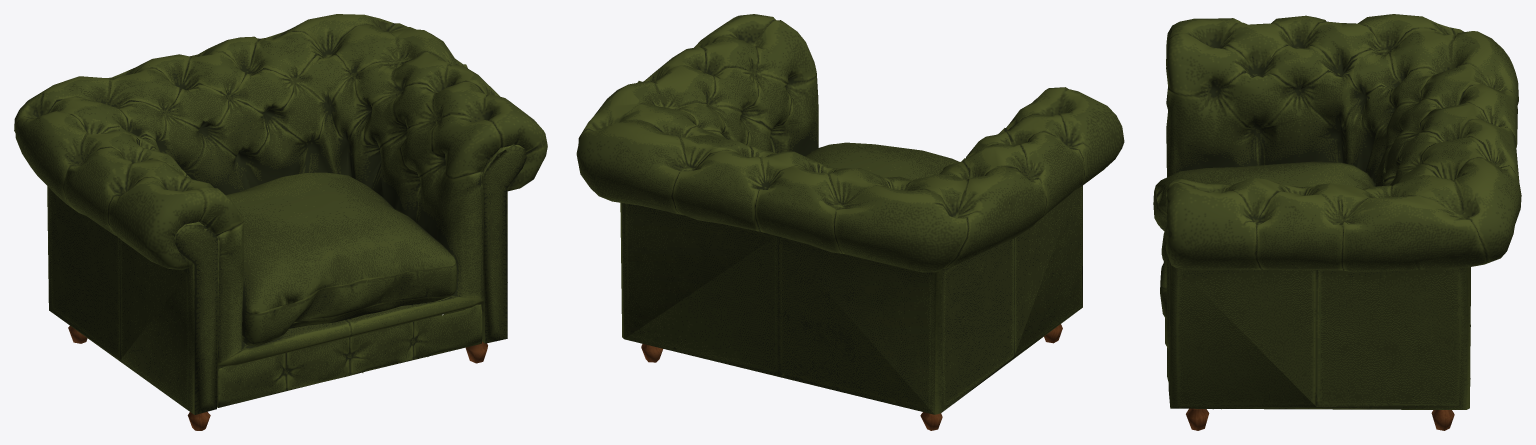
File: mdl_hub_leatherarmchair.gltf
3 views of the same model, side by side, from view 1: azimuth 30°, elevation 25°; view 2: azimuth 150°, elevation 25°; view 3: azimuth 270°, elevation 25° (orthographic). The views are drawn at different scales.
Parts seen in each view (by area): view 1: Classic_Leather Armchair_(High-Poly)_Material_0.002; view 2: Classic_Leather Armchair_(High-Poly)_Material_0.002; view 3: Classic_Leather Armchair_(High-Poly)_Material_0.002.
Boxes of the visible parts, x1,y1,x2,y2 form: Classic_Leather Armchair_(High-Poly)_Material_0.002: (14, 14, 547, 430); Classic_Leather Armchair_(High-Poly)_Material_0.002: (576, 14, 1124, 430); Classic_Leather Armchair_(High-Poly)_Material_0.002: (1153, 14, 1521, 430).
Bounding box in the file's own units: 135 × 77.24 × 102.
2 materials, 2 textured.
